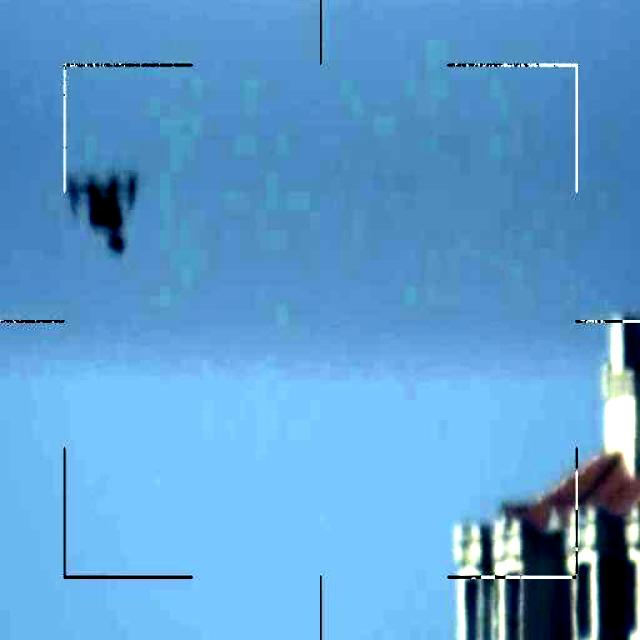bird: (66, 161, 142, 258)
